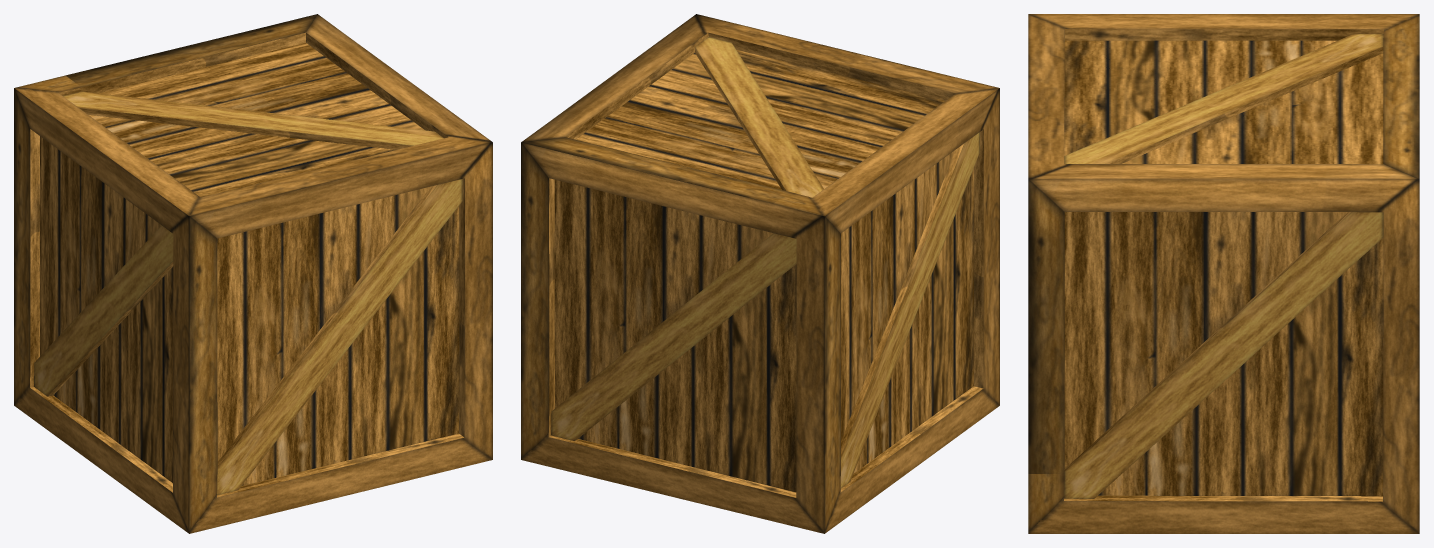
The model's file is WoodenBox.fbx.
The picture shows the model from 3 angles, left to right: view 1: azimuth 30°, elevation 25°; view 2: azimuth 150°, elevation 25°; view 3: azimuth 270°, elevation 25°; orthographic projection. The views are drawn at different scales.
Visible parts, largest first — view 1: WoodenBox; view 2: WoodenBox; view 3: WoodenBox.
Boxes of the visible parts, x1,y1,x2,y2 form: WoodenBox: (14, 14, 492, 533); WoodenBox: (521, 14, 999, 533); WoodenBox: (1028, 14, 1419, 533).
Bounding box in the file's own units: 49.8 × 49.81 × 49.8.
1 material, 1 textured.
